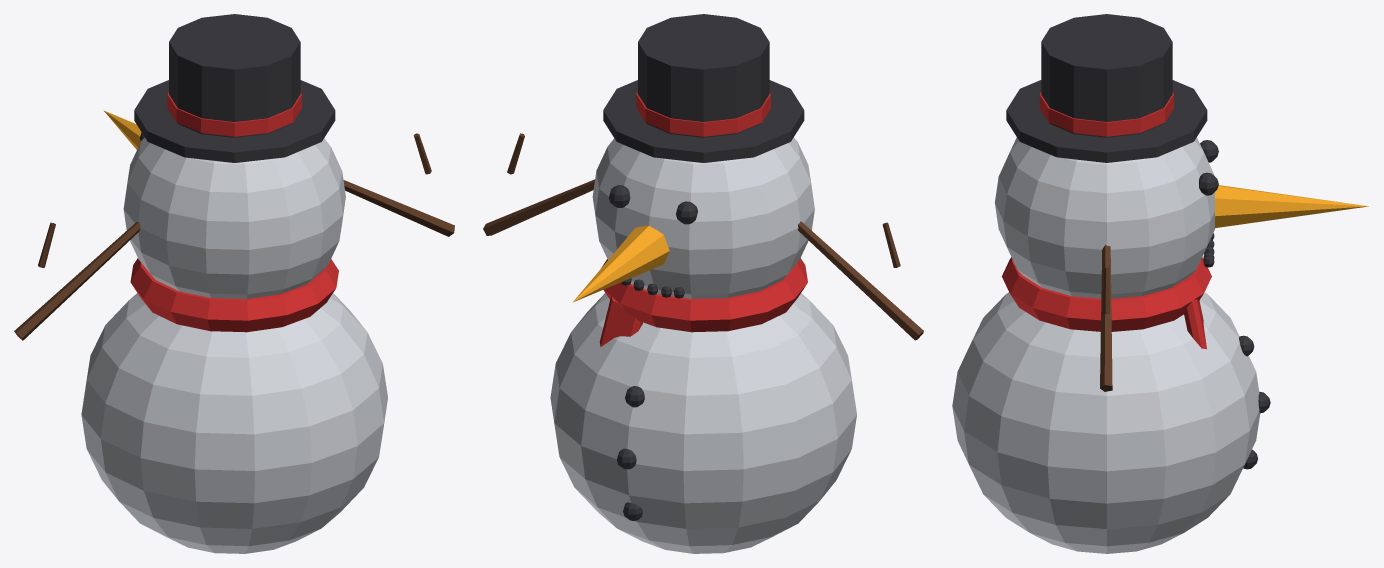
The model's file is FROZEN_SNOWMAN.glb.
3 renders of one model, left to right at view 1: azimuth 30°, elevation 25°; view 2: azimuth 150°, elevation 25°; view 3: azimuth 270°, elevation 25°, orthographic.
Parts seen in each view (by area): view 1: Snow, PropCharcoal, Scarf, Twig, Carrot; view 2: Snow, PropCharcoal, Scarf, Twig, Carrot; view 3: Snow, PropCharcoal, Scarf, Carrot, Twig.
Boxes of the visible parts, box(x1,y1,x2,y2) form: Snow: box(81, 137, 387, 553); PropCharcoal: box(134, 14, 335, 162); Scarf: box(130, 92, 338, 332); Twig: box(14, 133, 454, 340); Carrot: box(103, 110, 141, 149); Snow: box(550, 137, 856, 553); PropCharcoal: box(603, 14, 804, 520); Scarf: box(599, 92, 807, 346); Twig: box(483, 133, 923, 340); Carrot: box(572, 225, 669, 302); Snow: box(952, 137, 1260, 553); PropCharcoal: box(1006, 14, 1270, 469); Scarf: box(1002, 92, 1211, 349); Carrot: box(1215, 185, 1368, 227); Twig: box(1100, 245, 1112, 391).
Bounding box in the file's own units: 4 × 4.34 × 3.3.
